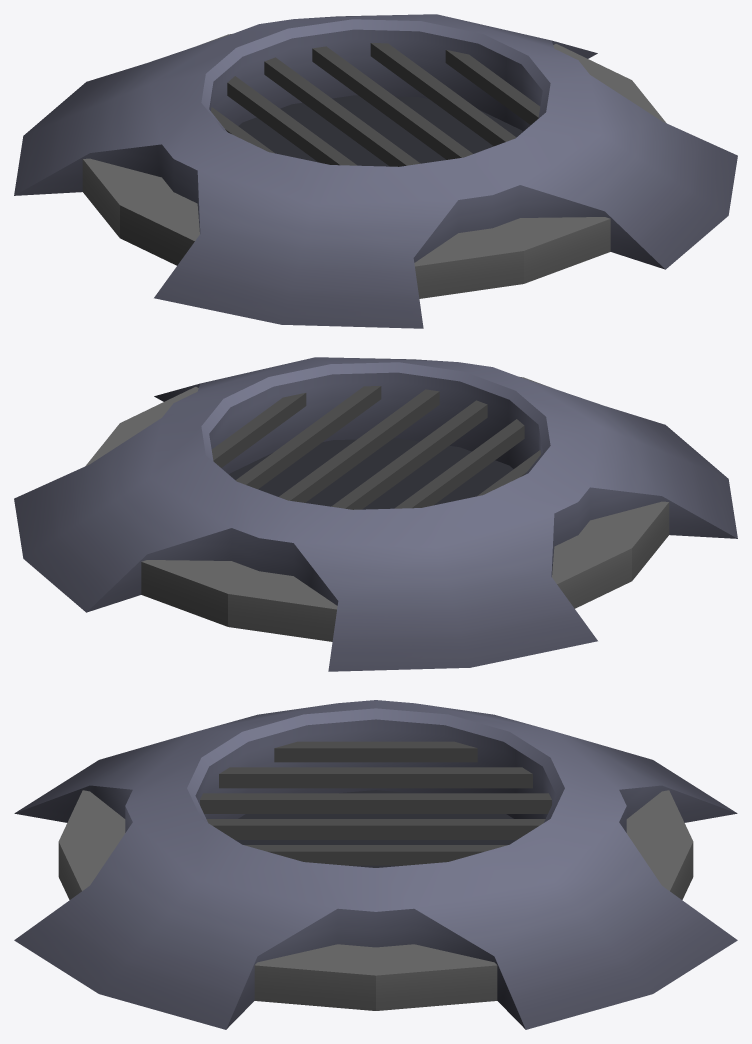
The model's file is jumppad.fbx.
3 views of the same model, one above another, from view 1: azimuth 30°, elevation 25°; view 2: azimuth 150°, elevation 25°; view 3: azimuth 270°, elevation 25° (orthographic). The views are drawn at different scales.
Visible parts, largest first — view 1: Circle; view 2: Circle; view 3: Circle.
Boxes of the visible parts, x1,y1,x2,y2 form: Circle: (14, 14, 737, 328); Circle: (14, 357, 737, 671); Circle: (14, 700, 737, 1029).
Size of the model in its own units: 64 by 8.66 by 64.
